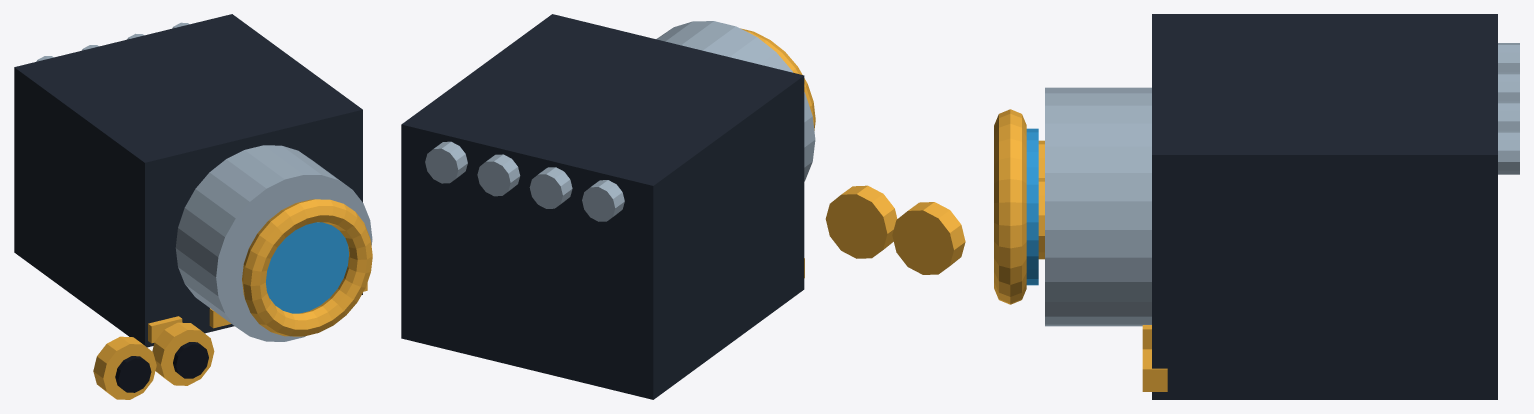
Rendered from 22_L86_StereoMachineVisionCameraLeft.fbx.
The picture shows the model from 3 angles, left to right: view 1: azimuth 30°, elevation 25°; view 2: azimuth 150°, elevation 25°; view 3: azimuth 270°, elevation 25°; orthographic projection. The views are drawn at different scales.
Parts seen in each view (by area): view 1: L86_StereoMachineVisionCameraLeft_Part_0000, L86_StereoMachineVisionCameraLeft_Part_0001, L86_StereoMachineVisionCameraLeft_Part_0003, L86_StereoMachineVisionCameraLeft_Part_0002, L86_StereoMachineVisionCameraLeft_Part_0004, L86_StereoMachineVisionCameraLeft_Part_0006, L86_StereoMachineVisionCameraLeft_Part_0005, L86_StereoMachineVisionCameraLeft_Part_0007; view 2: L86_StereoMachineVisionCameraLeft_Part_0000, L86_StereoMachineVisionCameraLeft_Part_0001, L86_StereoMachineVisionCameraLeft_Part_0004, L86_StereoMachineVisionCameraLeft_Part_0006, L86_StereoMachineVisionCameraLeft_Part_0003; view 3: L86_StereoMachineVisionCameraLeft_Part_0000, L86_StereoMachineVisionCameraLeft_Part_0001, L86_StereoMachineVisionCameraLeft_Part_0003, L86_StereoMachineVisionCameraLeft_Part_0002, L86_StereoMachineVisionCameraLeft_Part_0006.
Part boxes in pixels (x1=…): L86_StereoMachineVisionCameraLeft_Part_0000: x1=14, y1=14, x2=362, y2=347; L86_StereoMachineVisionCameraLeft_Part_0001: x1=36, y1=22, x2=372, y2=341; L86_StereoMachineVisionCameraLeft_Part_0003: x1=148, y1=199, x2=372, y2=343; L86_StereoMachineVisionCameraLeft_Part_0002: x1=266, y1=222, x2=348, y2=313; L86_StereoMachineVisionCameraLeft_Part_0004: x1=93, y1=336, x2=156, y2=399; L86_StereoMachineVisionCameraLeft_Part_0006: x1=152, y1=322, x2=214, y2=385; L86_StereoMachineVisionCameraLeft_Part_0005: x1=115, y1=356, x2=151, y2=392; L86_StereoMachineVisionCameraLeft_Part_0007: x1=173, y1=342, x2=208, y2=378; L86_StereoMachineVisionCameraLeft_Part_0000: x1=401, y1=14, x2=804, y2=399; L86_StereoMachineVisionCameraLeft_Part_0001: x1=425, y1=21, x2=815, y2=221; L86_StereoMachineVisionCameraLeft_Part_0004: x1=892, y1=202, x2=965, y2=274; L86_StereoMachineVisionCameraLeft_Part_0006: x1=825, y1=185, x2=897, y2=258; L86_StereoMachineVisionCameraLeft_Part_0003: x1=740, y1=28, x2=815, y2=278; L86_StereoMachineVisionCameraLeft_Part_0000: x1=1152, y1=14, x2=1497, y2=399; L86_StereoMachineVisionCameraLeft_Part_0001: x1=1045, y1=43, x2=1519, y2=326; L86_StereoMachineVisionCameraLeft_Part_0003: x1=994, y1=109, x2=1167, y2=391; L86_StereoMachineVisionCameraLeft_Part_0002: x1=1026, y1=128, x2=1038, y2=285; L86_StereoMachineVisionCameraLeft_Part_0006: x1=1038, y1=178, x2=1044, y2=259.
Size of the model in its own units: 75.25 by 43.12 by 83.6.
